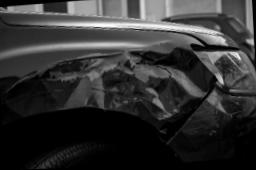Bumper: (168, 87, 256, 163)
Fender: (3, 28, 216, 143)
